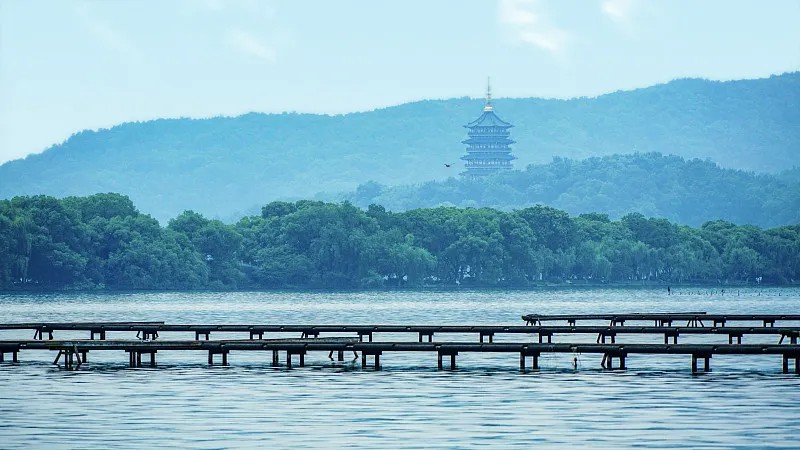Leifeng: (458, 74, 519, 181)
